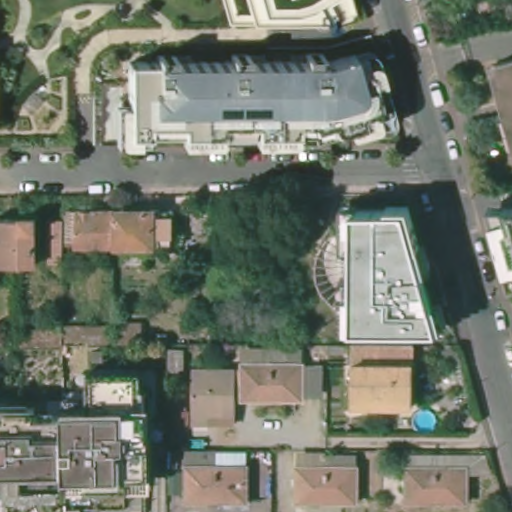pool: (409, 405, 443, 434)
